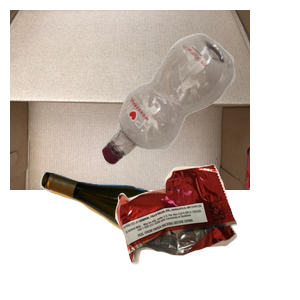cardboard: (10, 10, 250, 190)
glass: (37, 168, 242, 300)
plastic: (99, 31, 300, 189)
trash: (113, 162, 300, 300)
